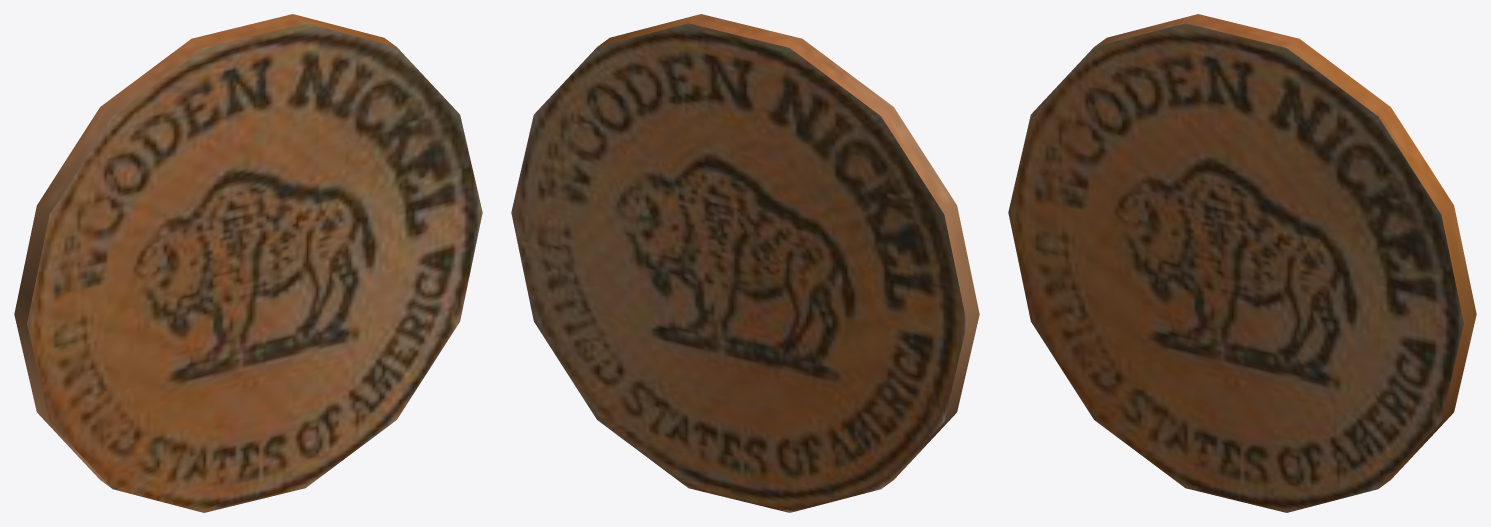
Rendered from wooden_nickel.FBX.
3 views of the same model, side by side, from view 1: azimuth 30°, elevation 25°; view 2: azimuth 150°, elevation 25°; view 3: azimuth 330°, elevation 25° (orthographic).
Visible parts, largest first — view 1: wooden_nickel; view 2: wooden_nickel; view 3: wooden_nickel.
Part boxes in pixels (x1,y1,x2,y2): wooden_nickel: (14,14,482,512); wooden_nickel: (511,14,979,512); wooden_nickel: (1008,14,1476,512).
Size of the model in its own units: 19.84 by 19.34 by 0.9573.
